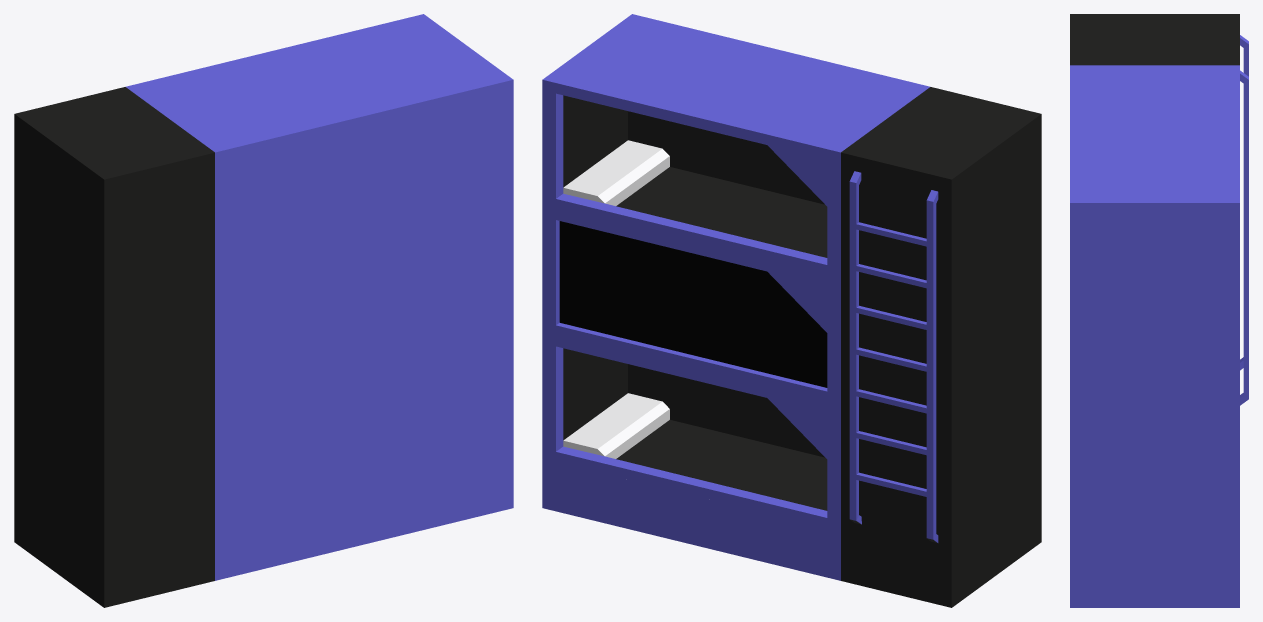
File: Bed_2.2.fbx
3 renders of one model, left to right at view 1: azimuth 30°, elevation 25°; view 2: azimuth 150°, elevation 25°; view 3: azimuth 270°, elevation 25°, orthographic. The views are drawn at different scales.
Visible parts, largest first — view 1: beds.009; view 2: beds.009; view 3: beds.009.
Part boxes in pixels (x1,y1,x2,y2): beds.009: [14, 14, 513, 607]; beds.009: [542, 14, 1041, 607]; beds.009: [1070, 14, 1248, 607].
Size of the model in its own units: 5 by 2 by 5.
